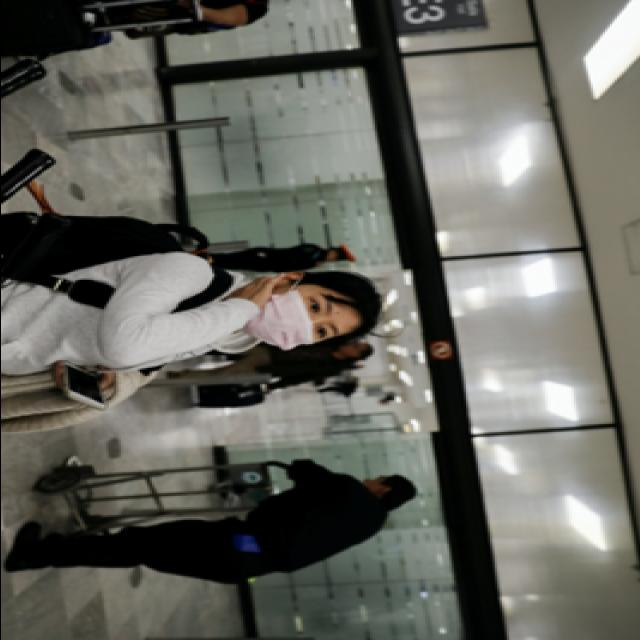with_mask: (247, 285, 341, 349)
